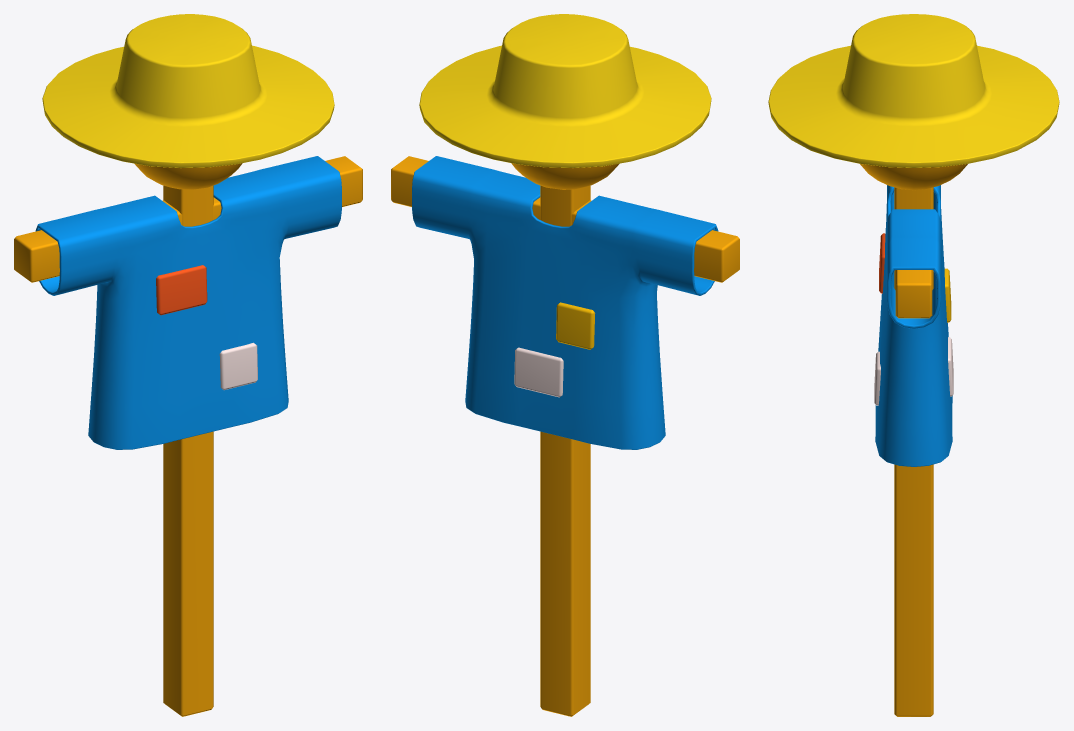
Rendered from Farm_12_Scarecrow_1.glb.
3 renders of one model, left to right at view 1: azimuth 30°, elevation 25°; view 2: azimuth 150°, elevation 25°; view 3: azimuth 270°, elevation 25°, orthographic.
Parts seen in each view (by area): view 1: Farm_12_Scarecrow_1; view 2: Farm_12_Scarecrow_1; view 3: Farm_12_Scarecrow_1.
Boxes of the visible parts, <box> form: Farm_12_Scarecrow_1: <box>14,14,362,716</box>; Farm_12_Scarecrow_1: <box>391,14,739,716</box>; Farm_12_Scarecrow_1: <box>768,14,1059,716</box>.
Size of the model in its own units: 1.02 by 1.96 by 0.7712.
Materials: 1 (1 with a texture image).
